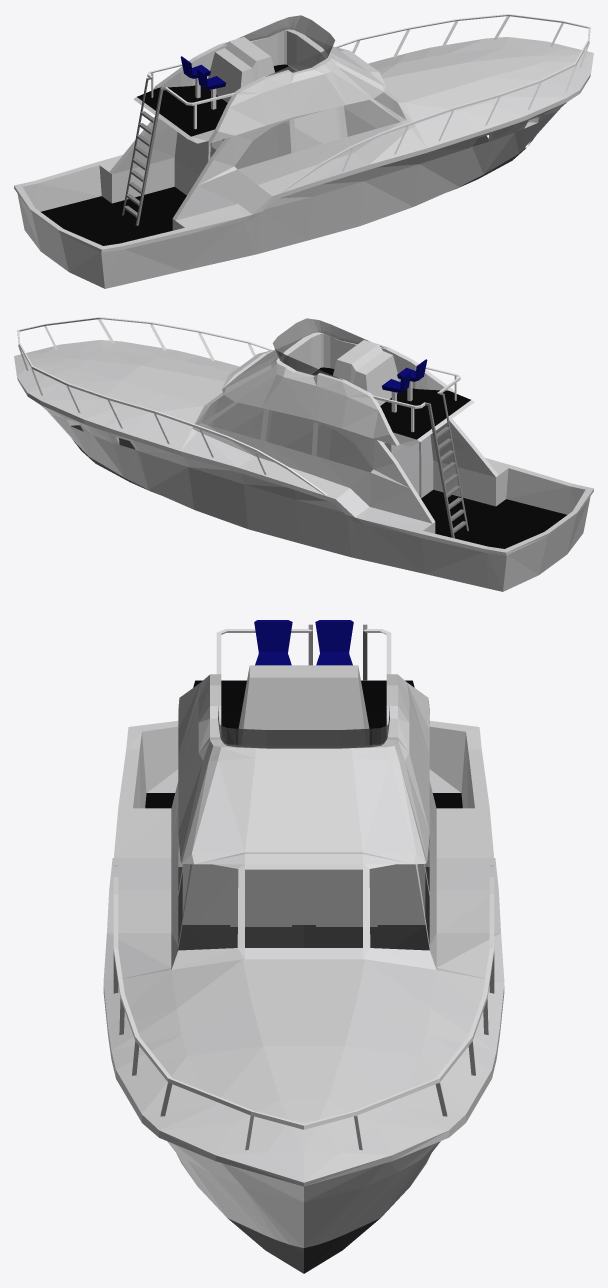
File: speedboat.dae
3 views of the same model, one above another, from view 1: azimuth 30°, elevation 25°; view 2: azimuth 150°, elevation 25°; view 3: azimuth 270°, elevation 25° (orthographic). The views are drawn at different scales.
Parts seen in each view (by area): view 1: boat_CD-PLAST_WHITE, boat_CD-WOOD_05, boat_CD-CHROME1, boat_CD-TPLAST_BLACK, boat_CD-GLASS_MDGRAY, boat_CD-METRF_MDGRAY, boat_CD-PLAST_RYLBLUE; view 2: boat_CD-PLAST_WHITE, boat_CD-WOOD_05, boat_CD-TPLAST_BLACK, boat_CD-CHROME1, boat_CD-GLASS_MDGRAY, boat_CD-METRF_MDGRAY, boat_CD-PLAST_RYLBLUE; view 3: boat_CD-PLAST_WHITE, boat_CD-TPLAST_BLACK, boat_CD-MATTE_DKGRAY, boat_CD-CHROME1, boat_CD-WOOD_05, boat_CD-GLASS_MDGRAY, boat_CD-PLAST_RYLBLUE.
Boxes of the visible parts, x1=… form: boat_CD-PLAST_WHITE: x1=14, y1=28, x2=593, y2=288; boat_CD-WOOD_05: x1=41, y1=64, x2=294, y2=245; boat_CD-CHROME1: x1=147, y1=14, x2=590, y2=192; boat_CD-TPLAST_BLACK: x1=212, y1=93, x2=538, y2=168; boat_CD-GLASS_MDGRAY: x1=222, y1=15, x2=335, y2=76; boat_CD-METRF_MDGRAY: x1=122, y1=77, x2=165, y2=225; boat_CD-PLAST_RYLBLUE: x1=180, y1=56, x2=225, y2=89; boat_CD-PLAST_WHITE: x1=14, y1=331, x2=593, y2=591; boat_CD-WOOD_05: x1=313, y1=367, x2=566, y2=548; boat_CD-TPLAST_BLACK: x1=69, y1=396, x2=390, y2=471; boat_CD-CHROME1: x1=17, y1=317, x2=460, y2=495; boat_CD-GLASS_MDGRAY: x1=272, y1=318, x2=385, y2=379; boat_CD-METRF_MDGRAY: x1=425, y1=392, x2=468, y2=538; boat_CD-PLAST_RYLBLUE: x1=382, y1=359, x2=427, y2=392; boat_CD-PLAST_WHITE: x1=103, y1=665, x2=504, y2=1247; boat_CD-TPLAST_BLACK: x1=178, y1=840, x2=429, y2=949; boat_CD-MATTE_DKGRAY: x1=178, y1=867, x2=429, y2=1273; boat_CD-CHROME1: x1=113, y1=629, x2=494, y2=1150; boat_CD-WOOD_05: x1=145, y1=680, x2=462, y2=808; boat_CD-GLASS_MDGRAY: x1=218, y1=706, x2=389, y2=748; boat_CD-PLAST_RYLBLUE: x1=254, y1=620, x2=353, y2=665.
Size of the model in its own units: 62.4 by 19.72 by 22.06.
